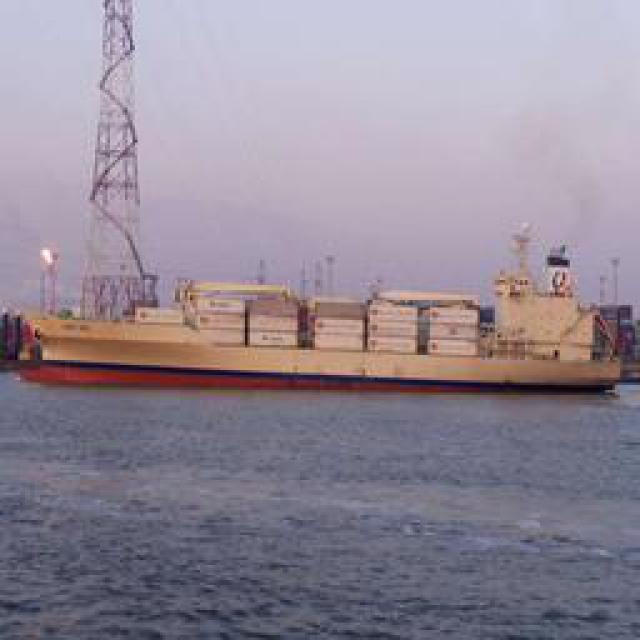Ship: (23, 274, 628, 397)
